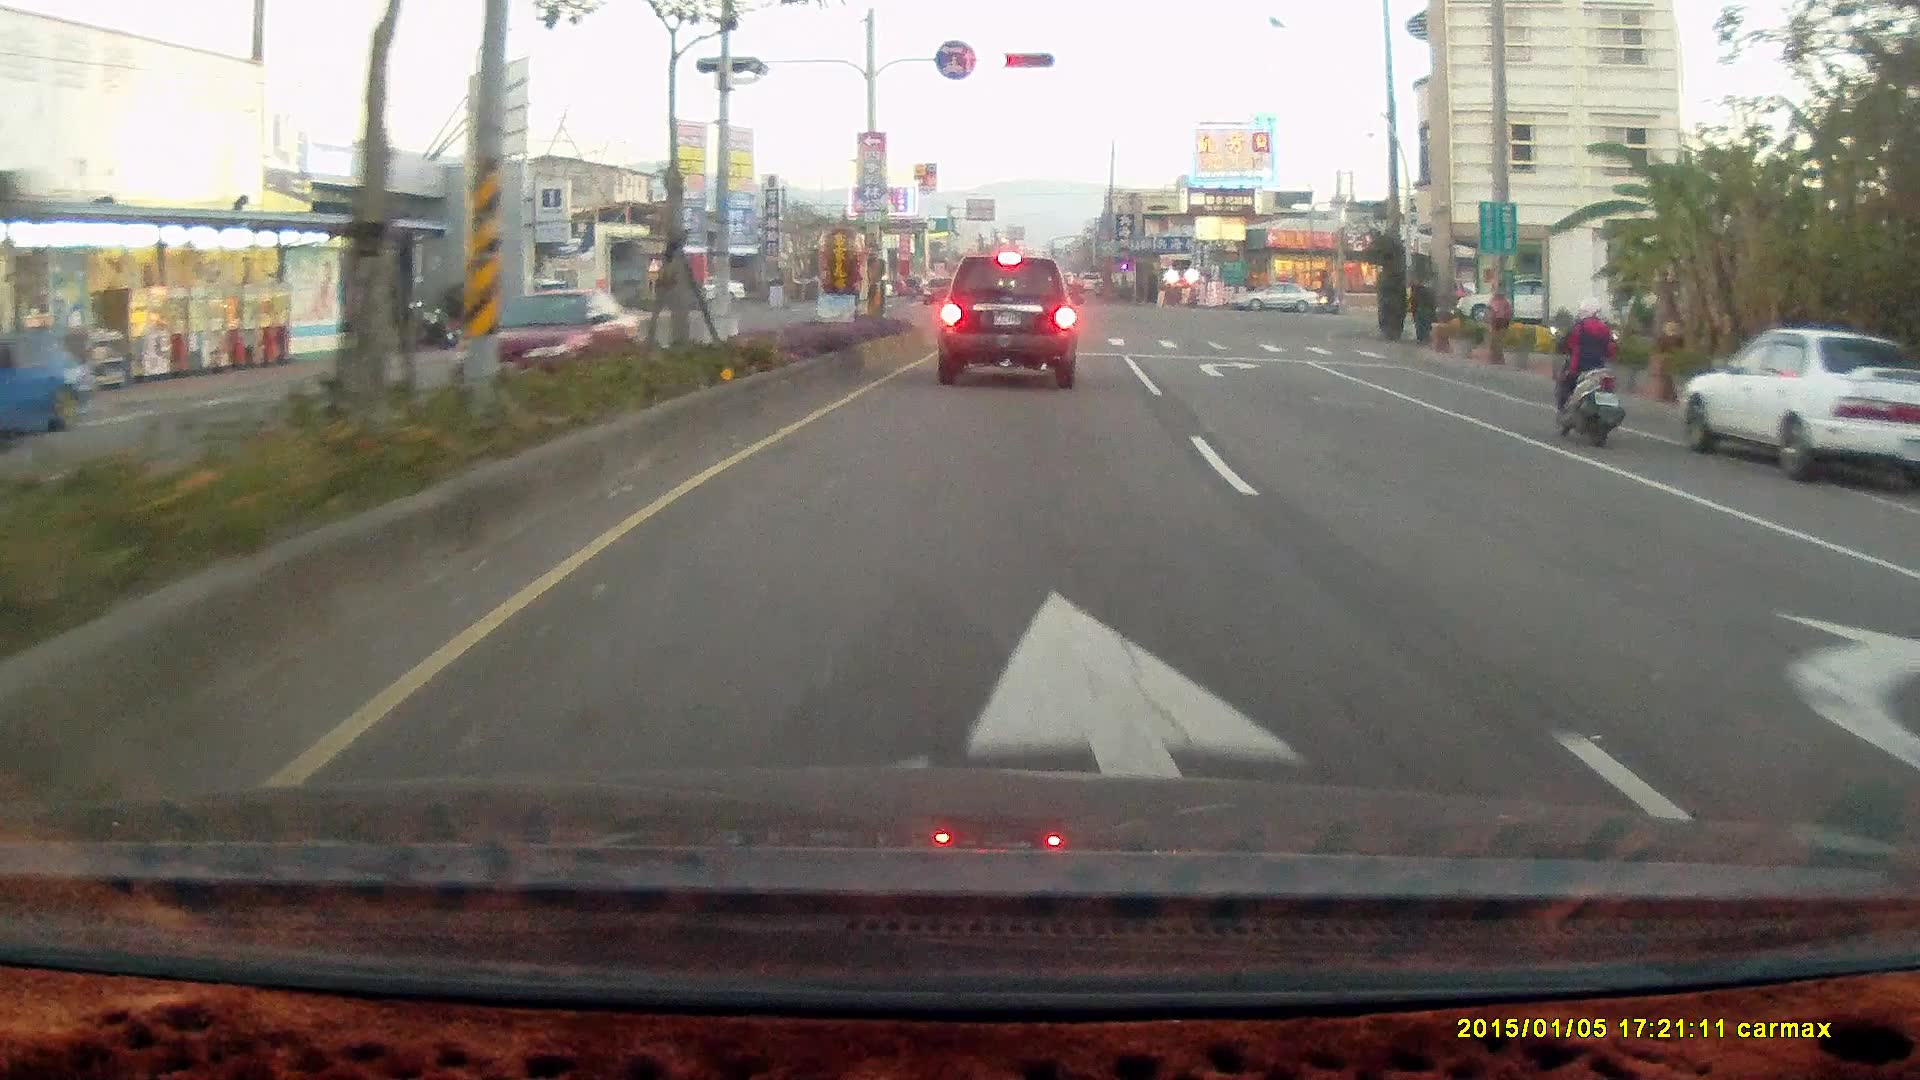rider: (1544, 295, 1626, 448), (1314, 277, 1340, 314)
vehicle: (1674, 323, 1919, 489), (1673, 326, 1920, 486), (935, 250, 1079, 387), (1896, 493, 1920, 836), (1453, 274, 1572, 328), (1883, 528, 1920, 690), (1228, 279, 1323, 317), (1228, 280, 1318, 313)
